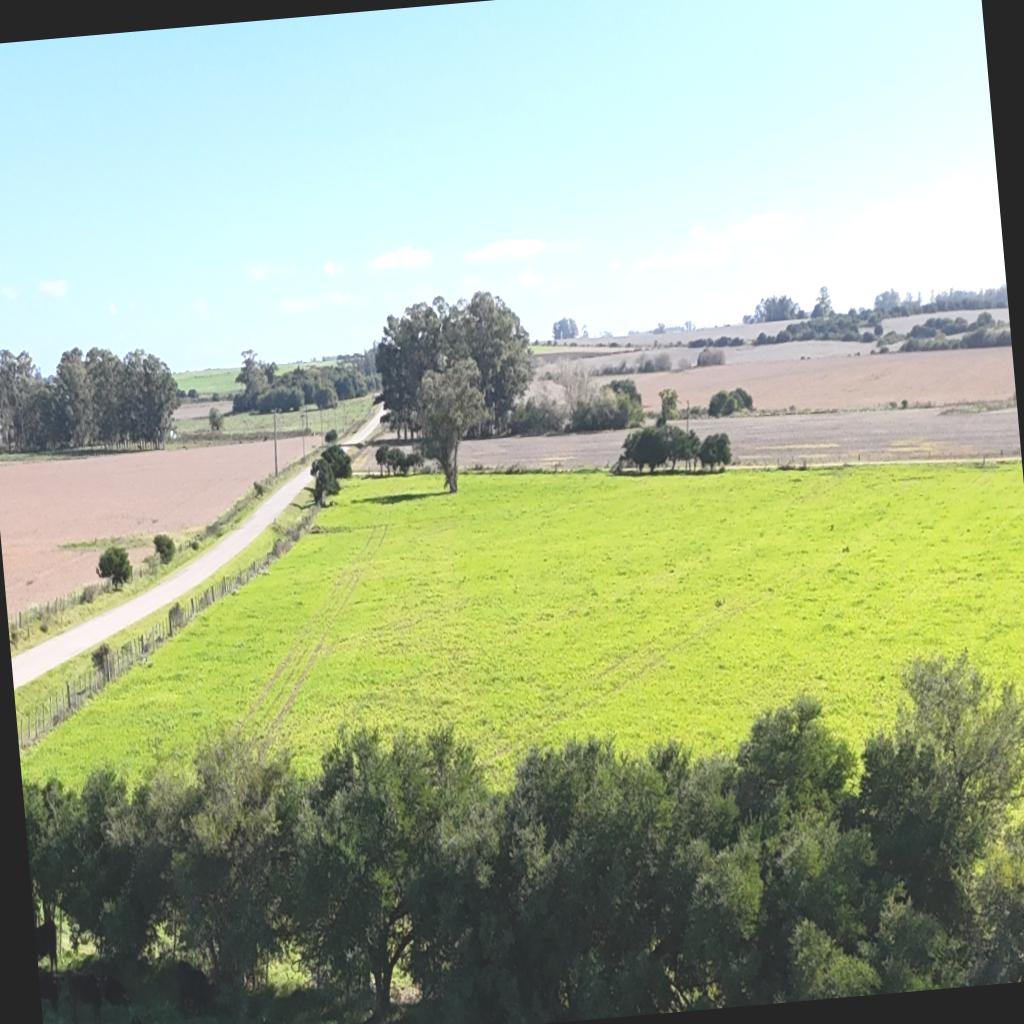cow: (173, 960, 221, 1020), (80, 960, 132, 1012), (34, 918, 60, 974), (38, 968, 64, 1020), (125, 1009, 163, 1024)
